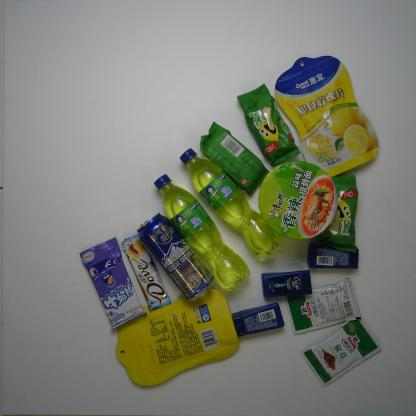Alcohol: (138, 212, 216, 302)
Candy: (78, 236, 146, 334)
Chocolate: (121, 235, 173, 312)
Dessert: (238, 82, 303, 168), (197, 122, 271, 193), (318, 171, 359, 255)
Dried Fruit: (272, 54, 379, 178), (114, 288, 239, 387)
Drink: (177, 149, 284, 256), (154, 173, 250, 292)
Instant Noodles: (258, 160, 340, 241)
Personal Hygiene: (231, 303, 287, 337), (260, 269, 314, 299), (307, 243, 363, 269)
Seasoner: (302, 320, 381, 385), (287, 278, 363, 334)
